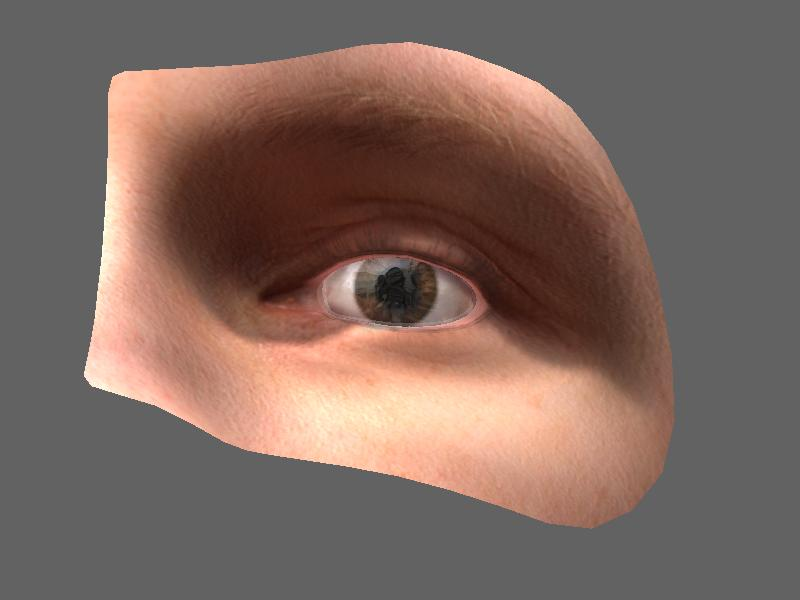iris: (345, 255, 445, 327)
